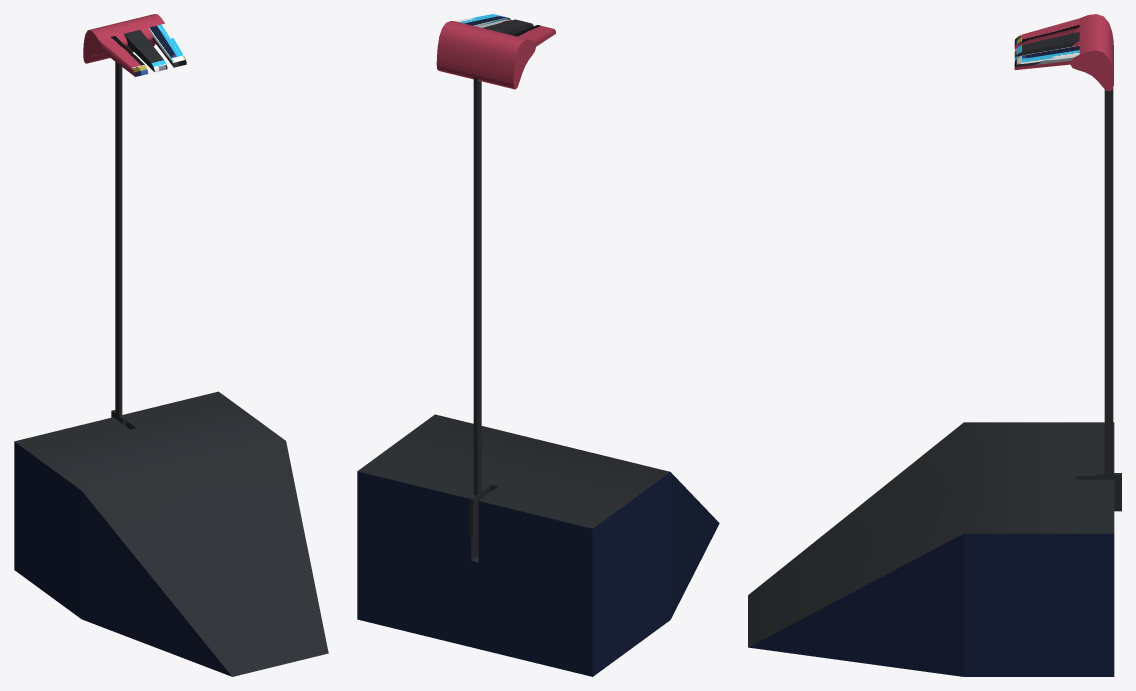
Rendered from Roumbot - Copy.fbx.
3 views of the same model, side by side, from view 1: azimuth 30°, elevation 25°; view 2: azimuth 150°, elevation 25°; view 3: azimuth 270°, elevation 25° (orthographic). The views are drawn at different scales.
Parts seen in each view (by area): view 1: Chassis, pCylinder1, pCube2; view 2: Chassis, pCylinder1, pCube2; view 3: Chassis, pCylinder1, pCube2.
Boxes of the visible parts, <box> form: Chassis: <box>14,391,328,676</box>; pCylinder1: <box>83,14,186,76</box>; pCube2: <box>111,62,126,426</box>; Chassis: <box>357,414,719,676</box>; pCylinder1: <box>436,14,555,89</box>; pCube2: <box>469,77,486,536</box>; Chassis: <box>748,422,1114,676</box>; pCylinder1: <box>1014,14,1113,91</box>; pCube2: <box>1096,88,1121,511</box>.
Bounding box in the file's own units: 1.71 × 4.23 × 2.43.
1 material, 1 textured.
